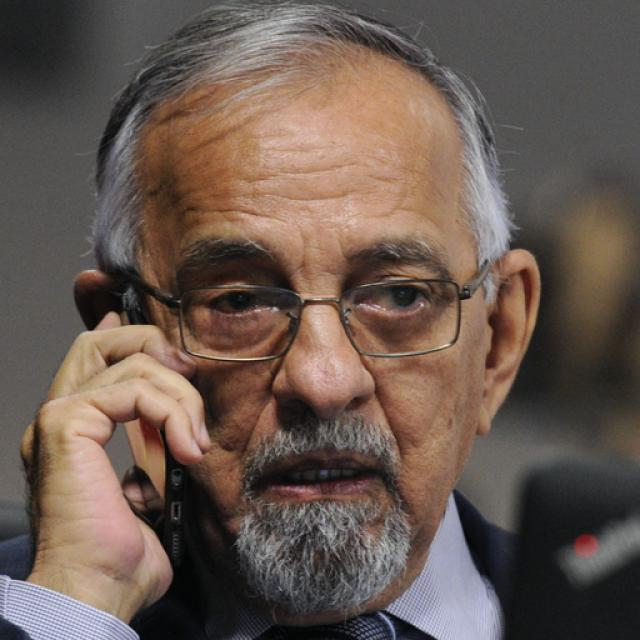neutral: (132, 75, 486, 615)
